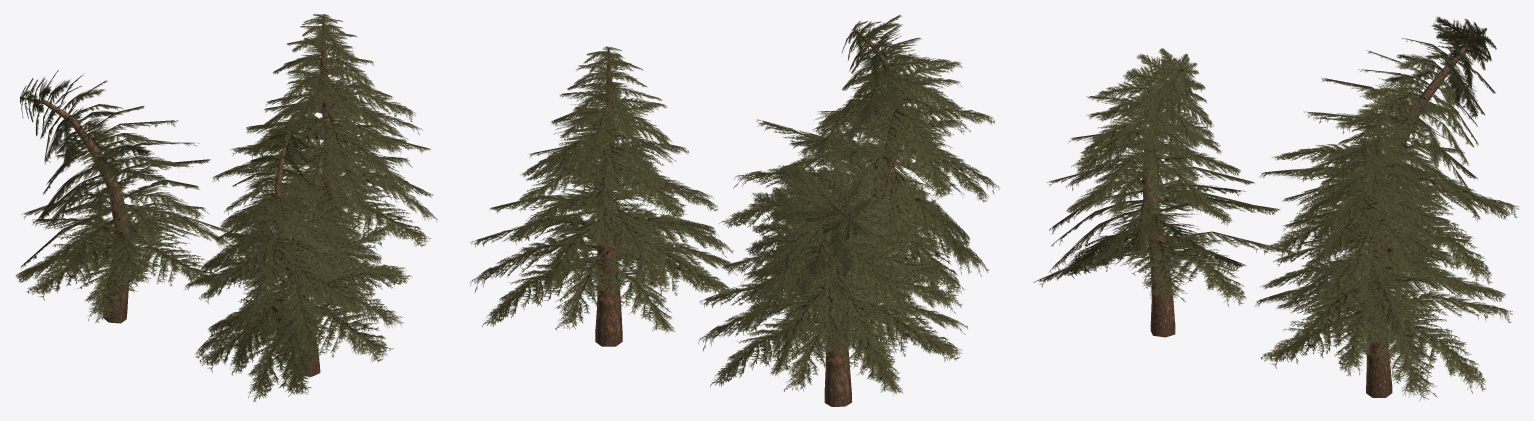
File: tree.glb
3 renders of one model, left to right at view 1: azimuth 30°, elevation 25°; view 2: azimuth 150°, elevation 25°; view 3: azimuth 270°, elevation 25°, orthographic. The views are drawn at different scales.
Visible parts, largest first — view 1: pine_tree.002, pine_tree.001, pine_tree; view 2: pine_tree.001, pine_tree, pine_tree.002; view 3: pine_tree, pine_tree.002, pine_tree.001.
Part boxes in pixels (x1,y1,x2,y2): pine_tree.002: (184, 129, 412, 401); pine_tree.001: (16, 70, 230, 323); pine_tree: (212, 14, 437, 250); pine_tree.001: (698, 150, 967, 406); pine_tree: (470, 46, 738, 346); pine_tree.002: (719, 14, 999, 303); pine_tree: (1254, 111, 1512, 401); pine_tree.002: (1033, 48, 1293, 337); pine_tree.001: (1258, 16, 1519, 291).
Size of the model in its own units: 1.57 by 0.9449 by 1.5.
Materials: 1 (1 with a texture image).
